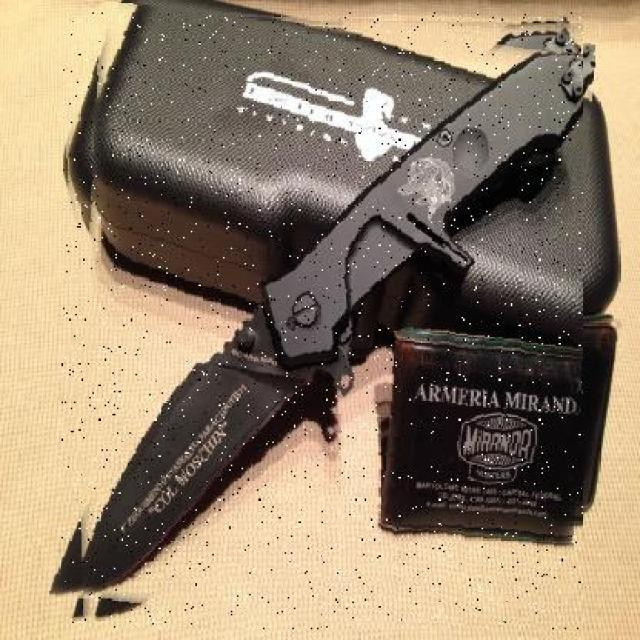knife: (61, 12, 584, 630)
